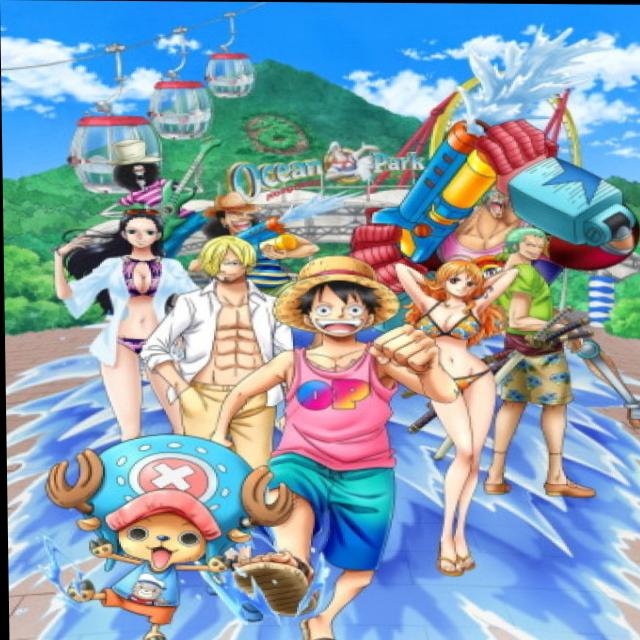Blook: (105, 137, 169, 197)
Chyopa: (21, 433, 289, 640)
Franky: (476, 180, 510, 221)
Luffy: (253, 244, 413, 343)
Nami: (425, 258, 495, 308)
NicoRobin: (98, 206, 176, 262)
Sangdi: (191, 234, 265, 290)
Usopp: (206, 187, 269, 238)
Zoro: (495, 224, 565, 263)
